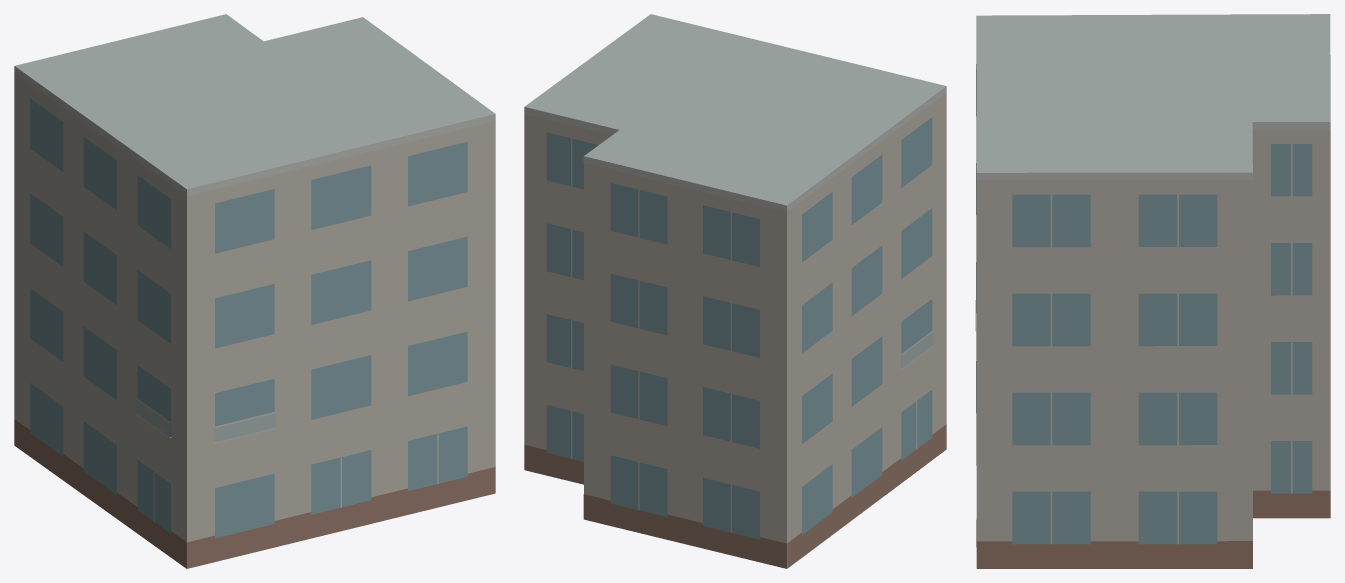
File: survey-upis-33025093.glb
3 renders of one model, left to right at view 1: azimuth 30°, elevation 25°; view 2: azimuth 150°, elevation 25°; view 3: azimuth 270°, elevation 25°, orthographic. The views are drawn at different scales.
Visible parts, largest first — view 1: survey-upis-33025093.tmp; view 2: survey-upis-33025093.tmp; view 3: survey-upis-33025093.tmp.
Part boxes in pixels (x1,y1,x2,y2): survey-upis-33025093.tmp: (14,14,495,568); survey-upis-33025093.tmp: (524,14,946,568); survey-upis-33025093.tmp: (975,14,1330,568).
Bounding box in the file's own units: 11.36 × 13.2 × 10.75.
